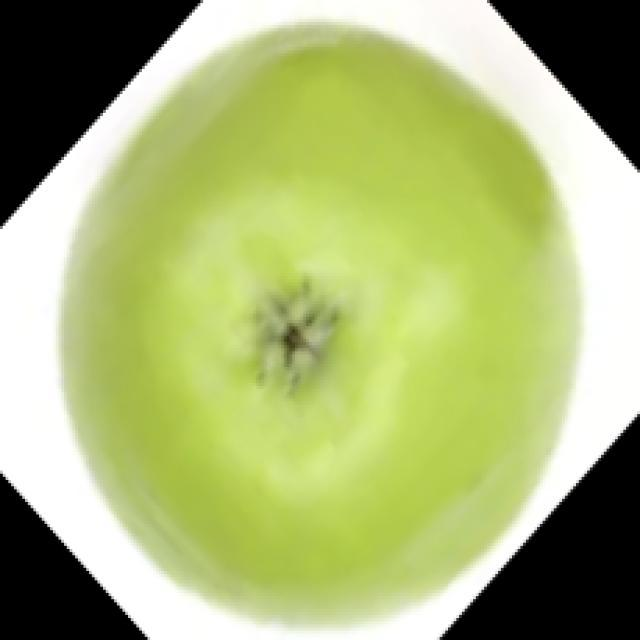Apple: (56, 21, 584, 625)
